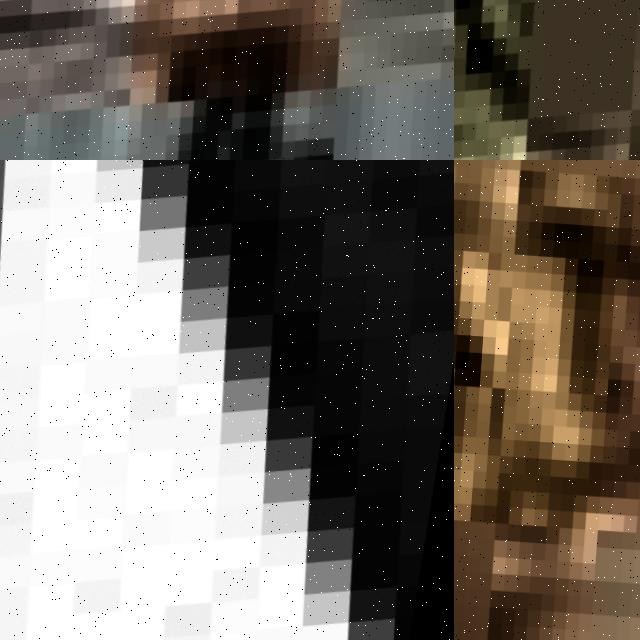0: (0, 0, 454, 160), (454, 0, 640, 160)
drone: (0, 160, 454, 640)
